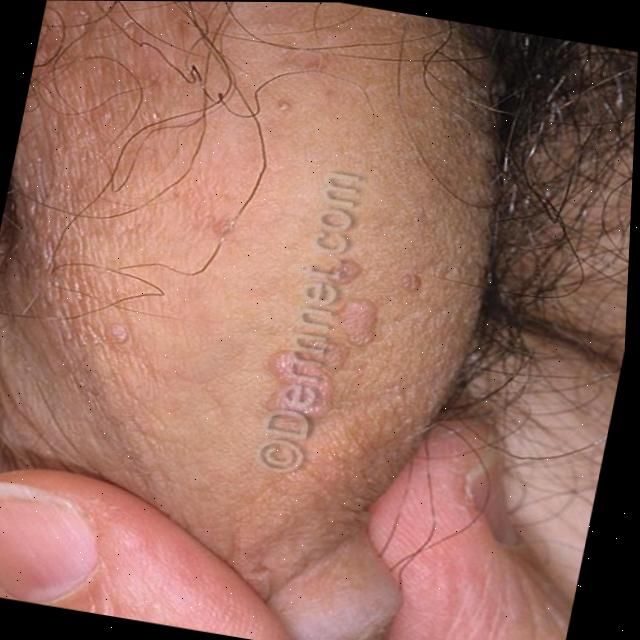Shingles: (229, 239, 402, 445)
